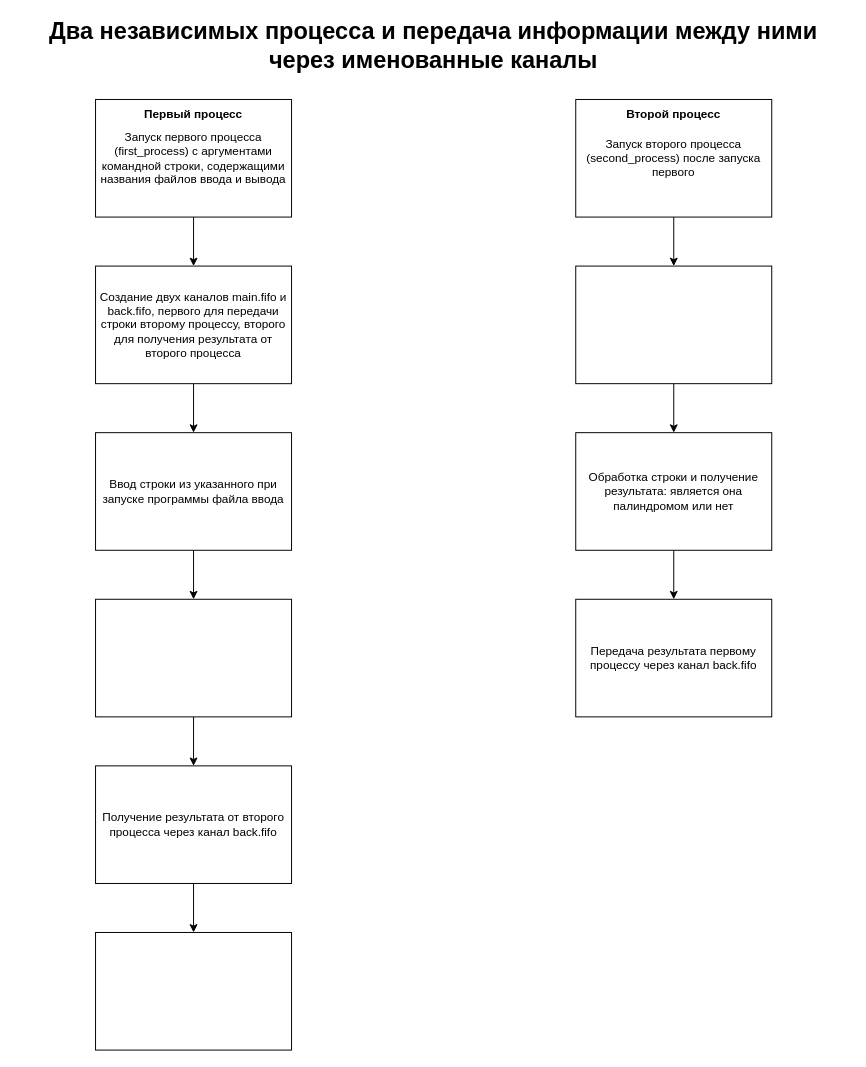
This 866x1067 diagram has some shape labels left out. Each missing label, with the centre of its shape:
Вывод результата в указанный при запуске программы файл вывода: (x=193, y=990)
Передача строки второму процессу через канал main.fifo: (x=193, y=657)
Получение строки от первого процесса через канал main.fifo: (x=673, y=324)
